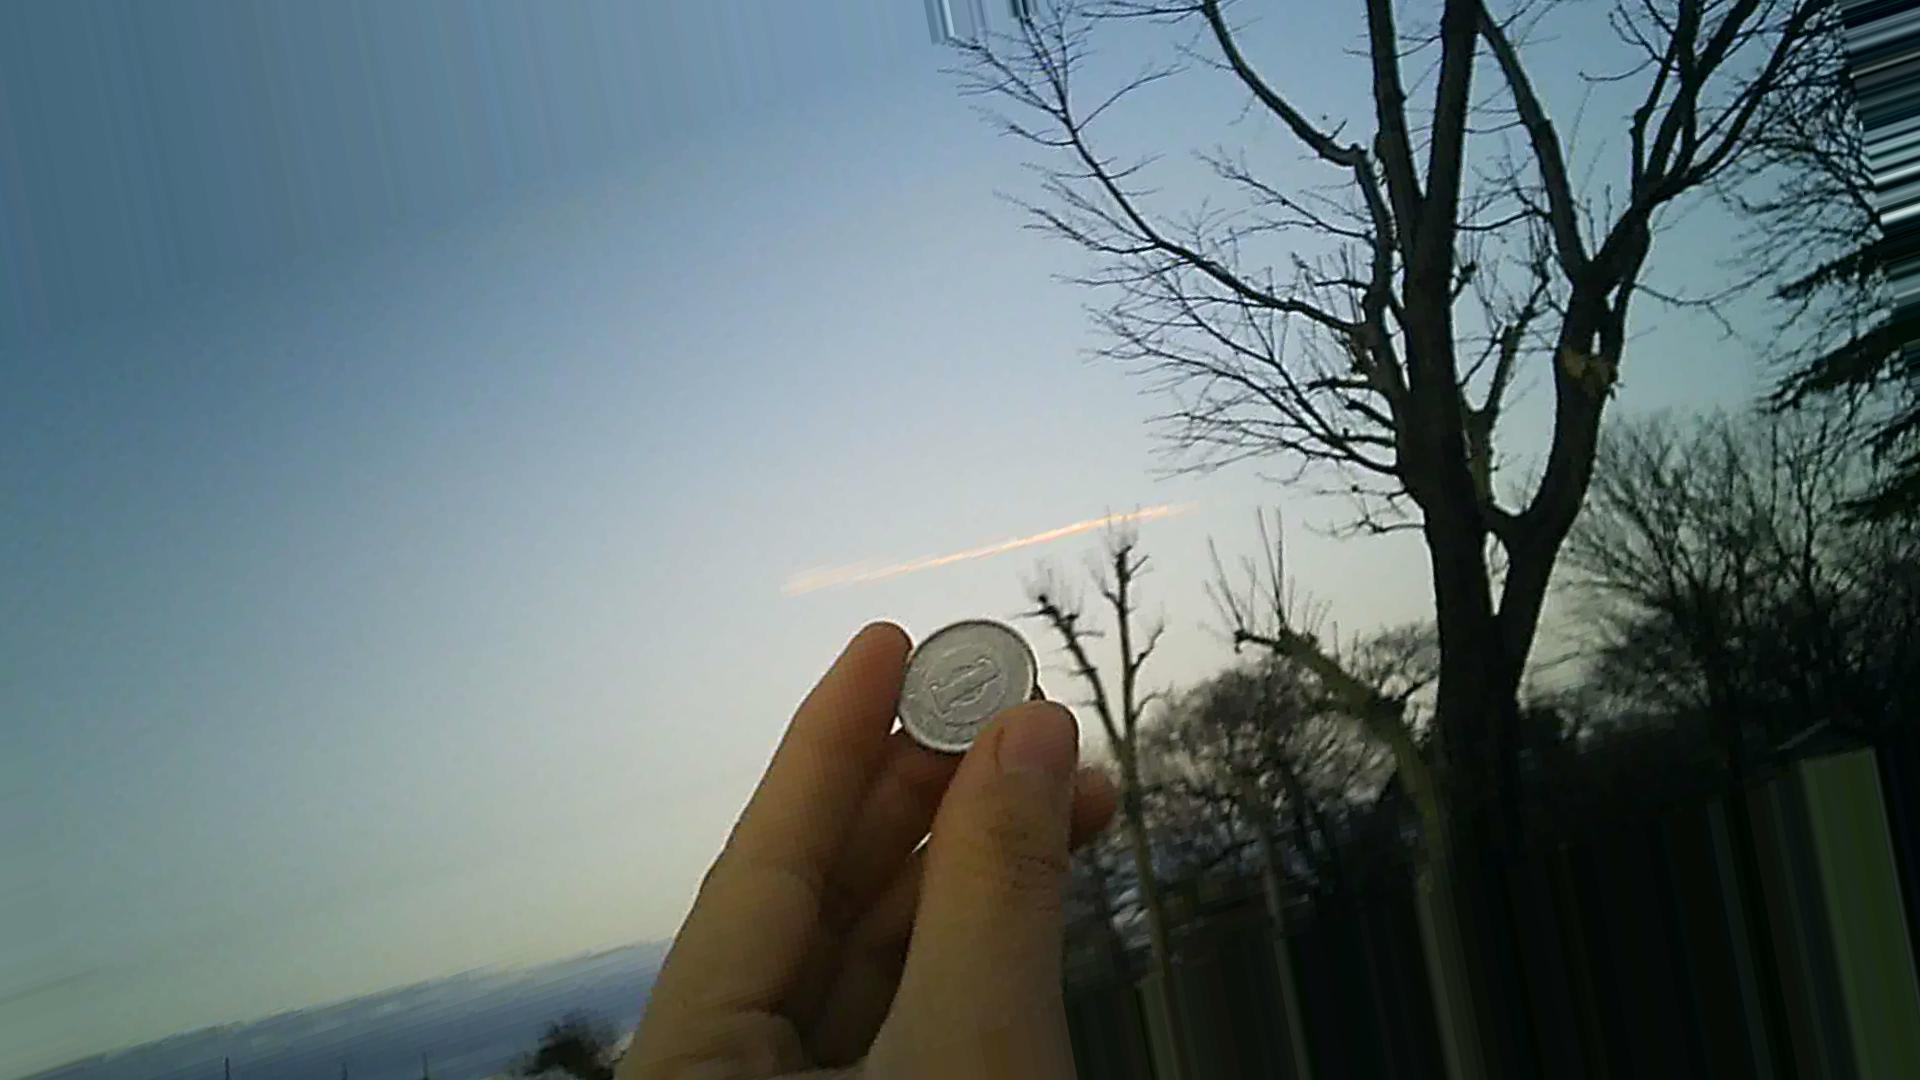1 Yen: (882, 612, 1042, 767)
